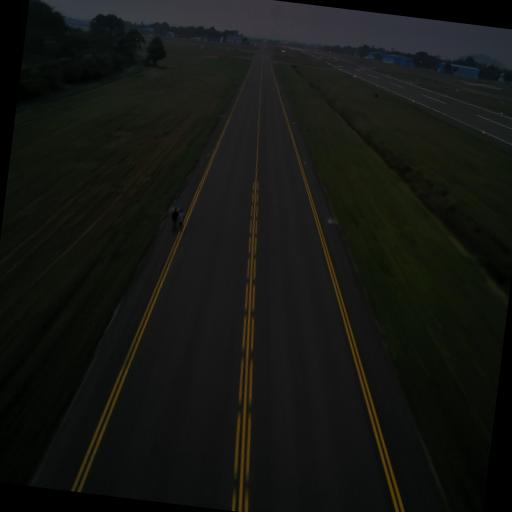on: (175, 203, 179, 209), (222, 112, 225, 118), (330, 214, 332, 221), (292, 120, 294, 124)
